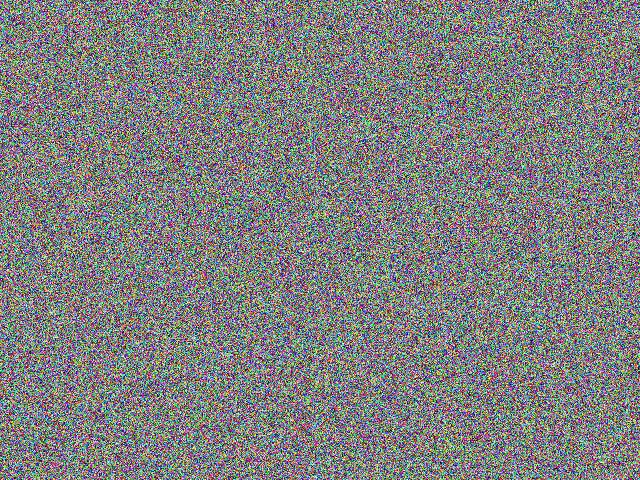RBC: (78, 336, 184, 435)
